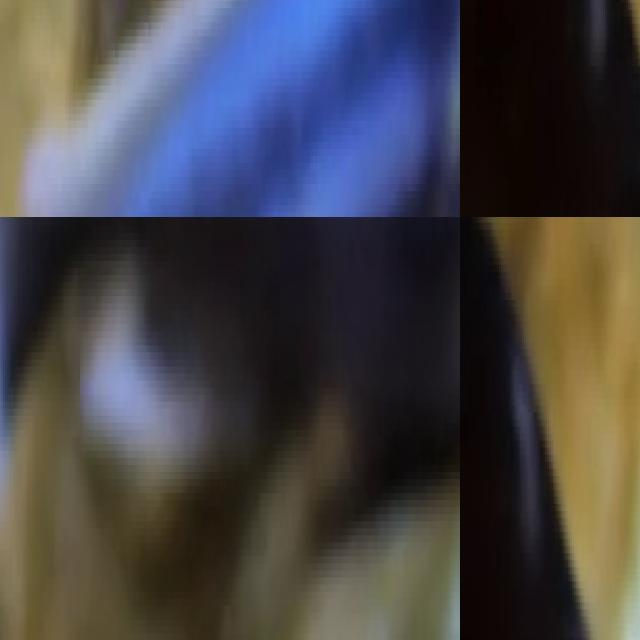fish: (0, 0, 460, 217), (460, 0, 640, 217)
